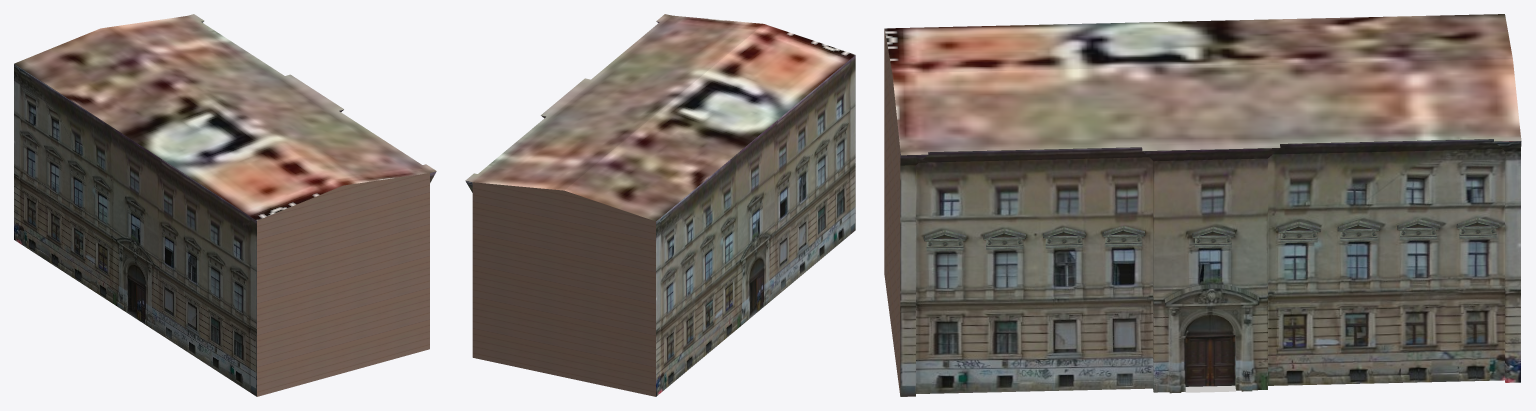
Rendered from Building008.dae.
3 views of the same model, side by side, from view 1: azimuth 30°, elevation 25°; view 2: azimuth 150°, elevation 25°; view 3: azimuth 270°, elevation 25° (orthographic). The views are drawn at different scales.
Visible parts, largest first — view 1: SketchUp (×3); view 2: SketchUp (×3); view 3: SketchUp (×4).
Boxes of the visible parts, x1=… form: SketchUp (×3): x1=14, y1=14, x2=436, y2=396; SketchUp (×3): x1=465, y1=14, x2=855, y2=396; SketchUp (×4): x1=884, y1=14, x2=1521, y2=396.
Size of the model in its own units: 563 by 1072 by 487.
6 materials, 5 textured.
